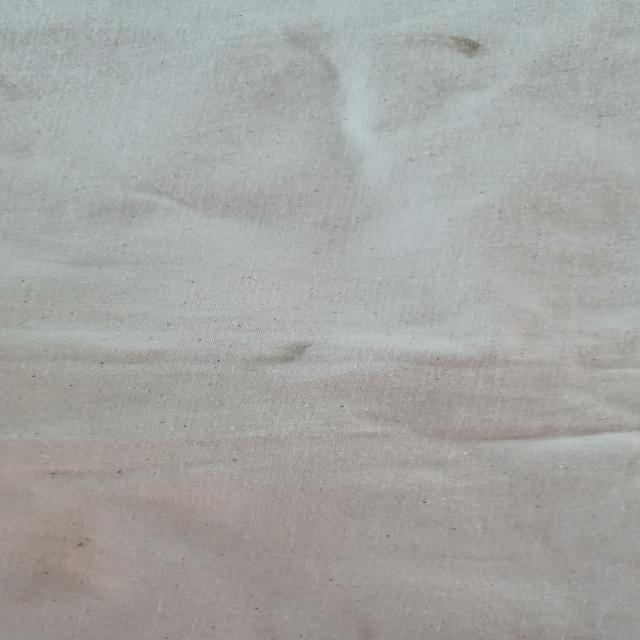taaaches: (238, 330, 340, 384), (402, 21, 510, 70)
